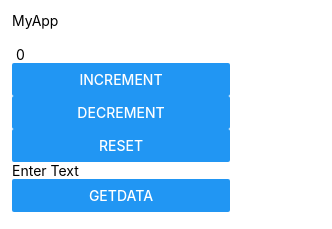
examples › will text value change when inputText value changed
Type "Text changed" into the field with placeholder "Enter Text".
click(121, 170); type("Text changed")  # box [12, 162, 230, 179]
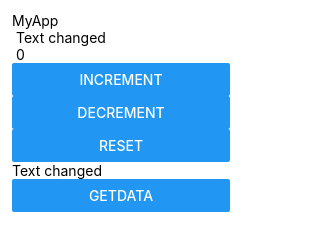
Check: the text with test id "inputText" reads "Text changed", box [16, 29, 106, 46]
